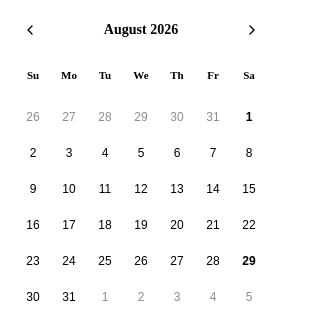
it: Calendar Component & A11y › navigates months with previous and next buttons
Expected: the text "August 2026" is shown, [104,22,178,38]
What coordinates should you click on to do the following:
click the button named "Next month"
I would click on:
 (252, 30)
Its box is [238,16,266,44].
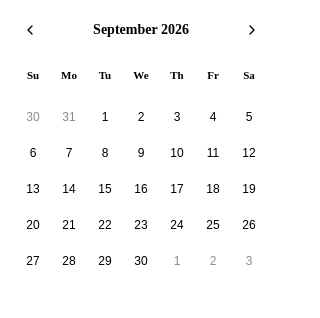
Expected: the text "September 2026" is shown, [93,22,189,38]
What coordinates should you click on to do the following:
click the button named "Previous month"
I would click on:
 (30, 30)
Its box is [16,16,44,44].
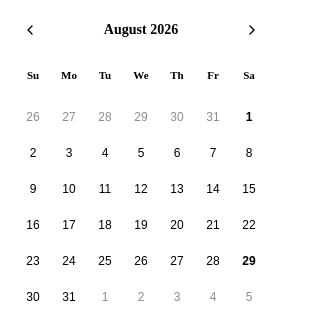
Expected: the text "August 2026" is shown, [104,22,178,38]
